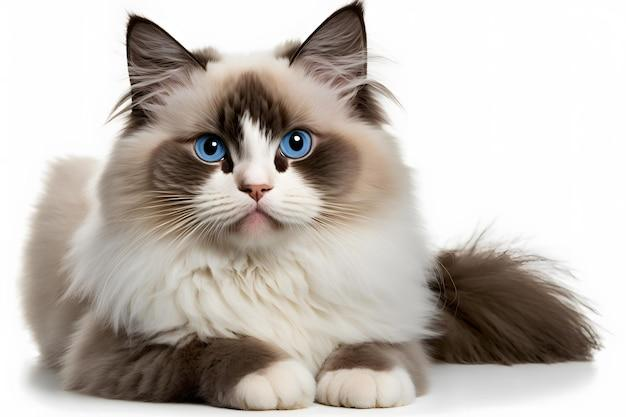ragdoll: (120, 3, 388, 260)
